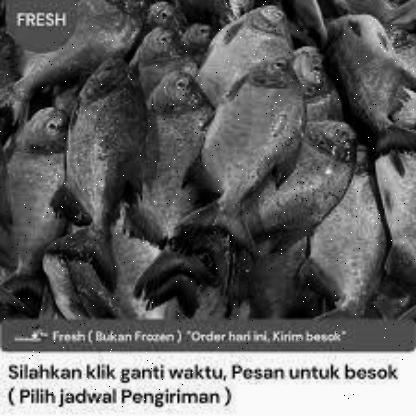ikan-pacu: (185, 56, 307, 232), (64, 59, 142, 223), (135, 70, 209, 238), (257, 122, 362, 236), (0, 107, 68, 268), (190, 3, 292, 86)
